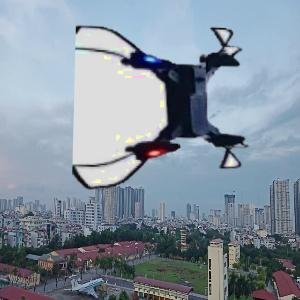drone: (75, 15, 255, 195)
